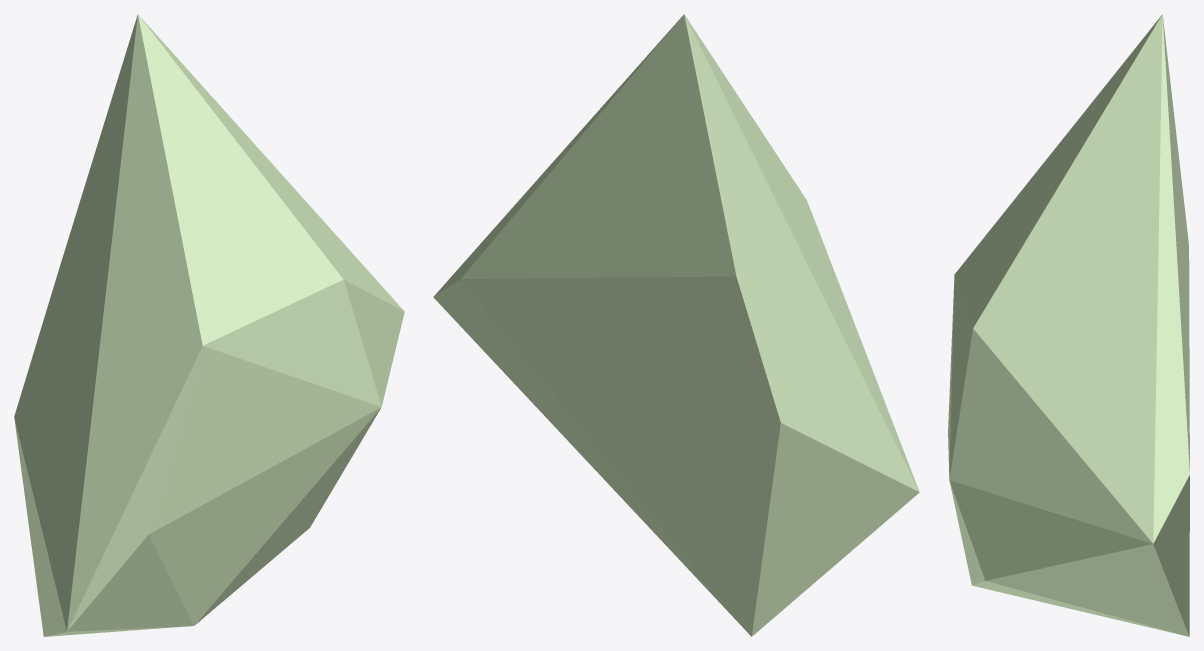
File: iiwa_robot_base_coll_3.obj
3 views of the same model, side by side, from view 1: azimuth 30°, elevation 25°; view 2: azimuth 150°, elevation 25°; view 3: azimuth 270°, elevation 25° (orthographic). The views are drawn at different scales.
Visible parts, largest first — view 1: node; view 2: node; view 3: node.
Boxes of the visible parts, x1,y1,x2,y2 form: node: [14, 14, 404, 636]; node: [433, 14, 919, 636]; node: [948, 14, 1189, 636].
Size of the model in its own units: 0.0294 by 0.041 by 0.0135.
